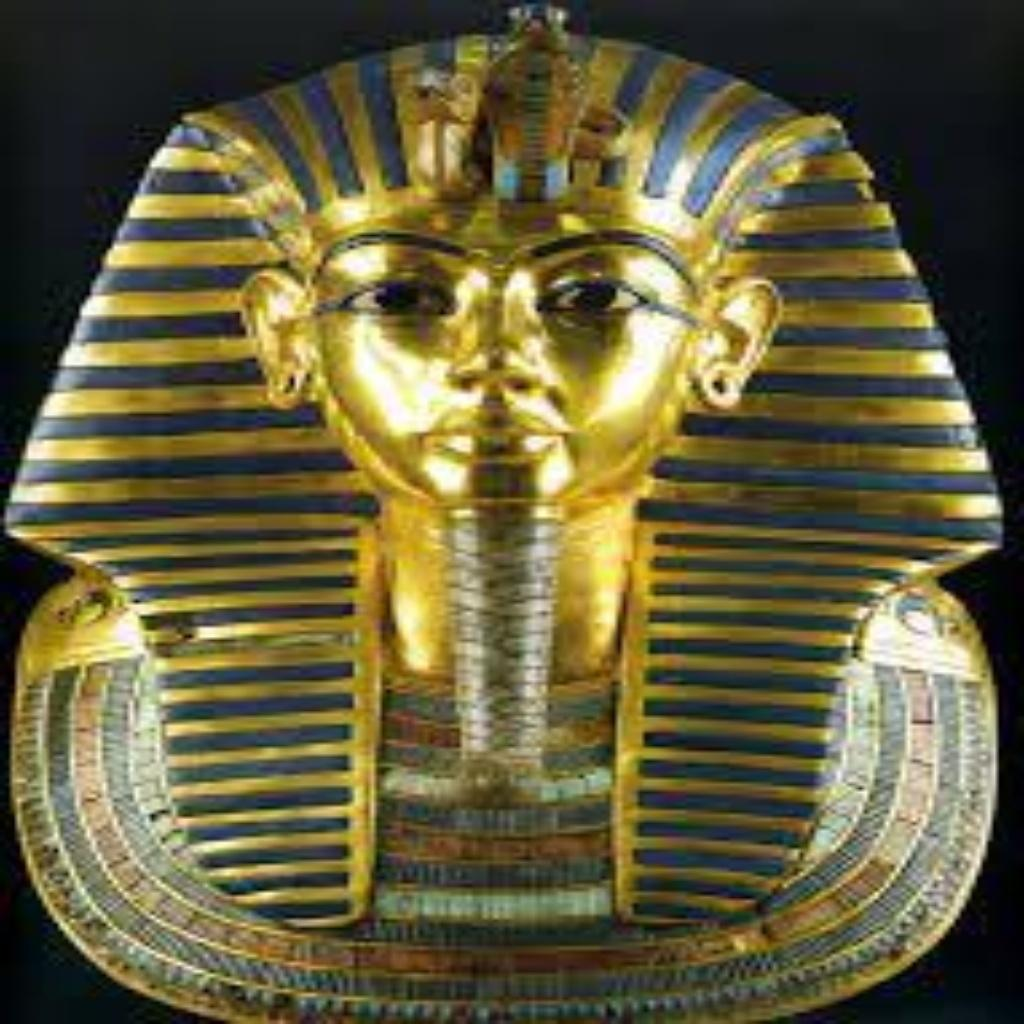Mask of Tutankhamun: (0, 0, 1008, 1020)
